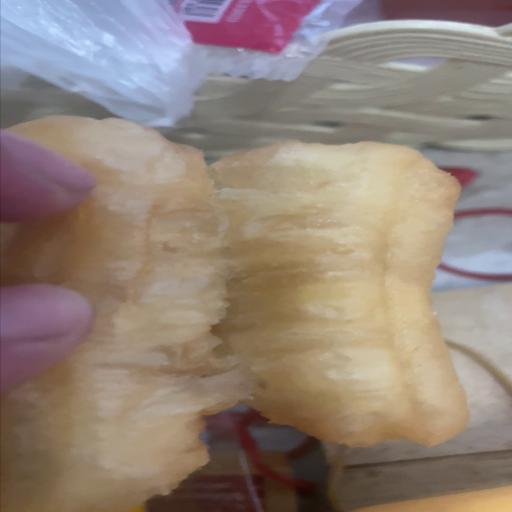street_golden_defect: (0, 133, 464, 512)
